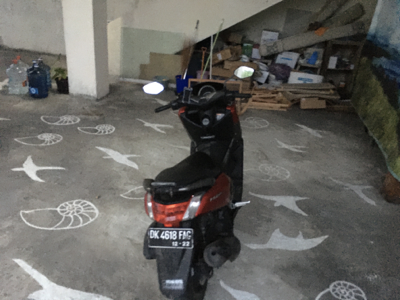moto: (140, 77, 253, 299)
